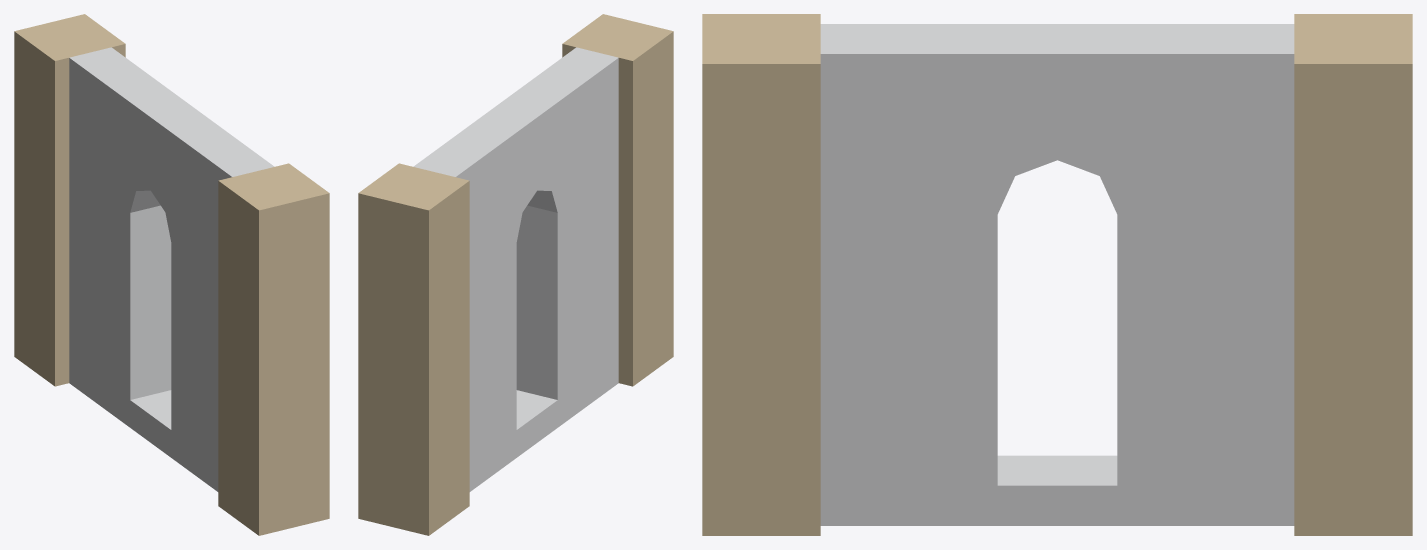
Rendered from Wood_Window_Round_Long_01.glb.
3 views of the same model, side by side, from view 1: azimuth 30°, elevation 25°; view 2: azimuth 150°, elevation 25°; view 3: azimuth 270°, elevation 25° (orthographic). The views are drawn at different scales.
Visible parts, largest first — view 1: Mesh1 Wood_Window_Round_Long Model; view 2: Mesh1 Wood_Window_Round_Long Model; view 3: Mesh1 Wood_Window_Round_Long Model.
Boxes of the visible parts, x1,y1,x2,y2 form: Mesh1 Wood_Window_Round_Long Model: (14, 14, 329, 535); Mesh1 Wood_Window_Round_Long Model: (358, 14, 673, 535); Mesh1 Wood_Window_Round_Long Model: (702, 14, 1412, 535).
Size of the model in its own units: 0.5 by 2.2 by 3.
